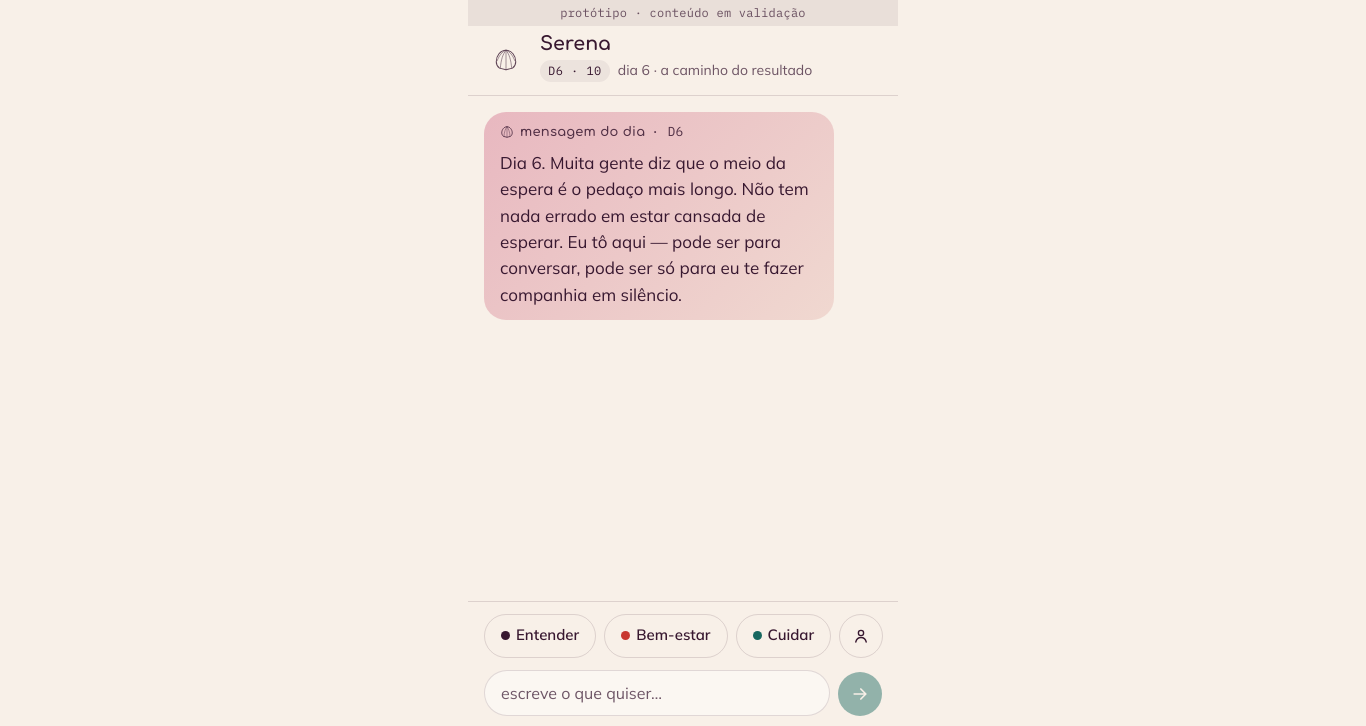
Test: trilhas (Entender · Bem-estar · Cuidar) › ver o card a partir da trilha insere o card inline
The image size is (1366, 726).
Click the button "Entender".
click(540, 636)  # box [484,614,596,658]
(page scrolled)
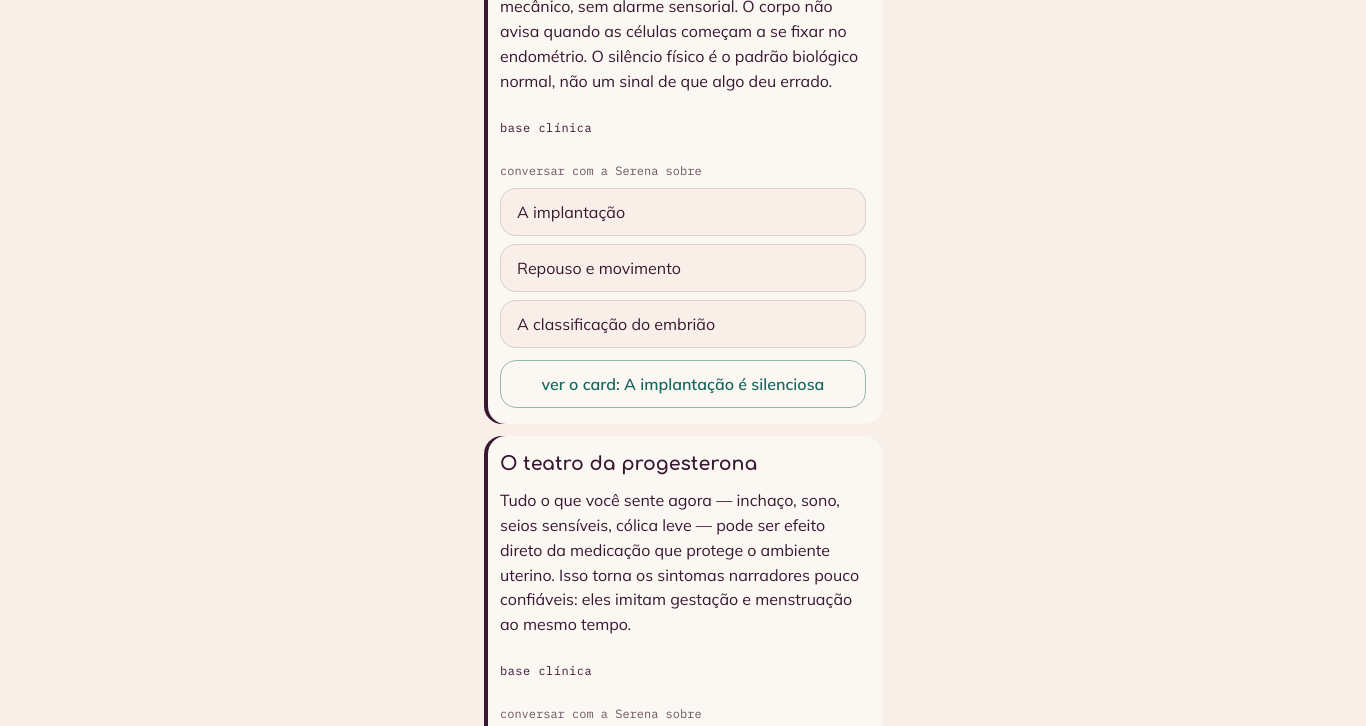
Click the button "ver o card: A implantação é silenciosa".
click(683, 384)  # box [500,360,866,408]
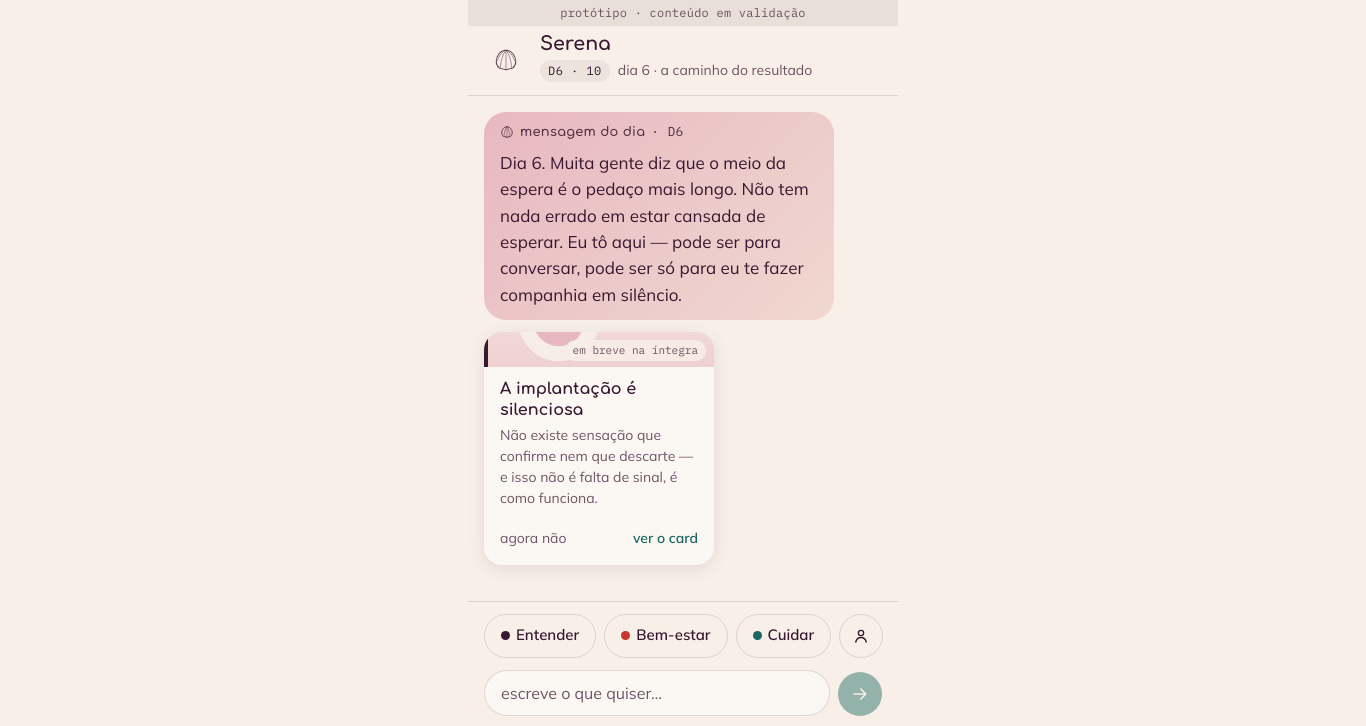
Result: the element "A implantação é silenciosa" is shown at [484,332,714,565]
